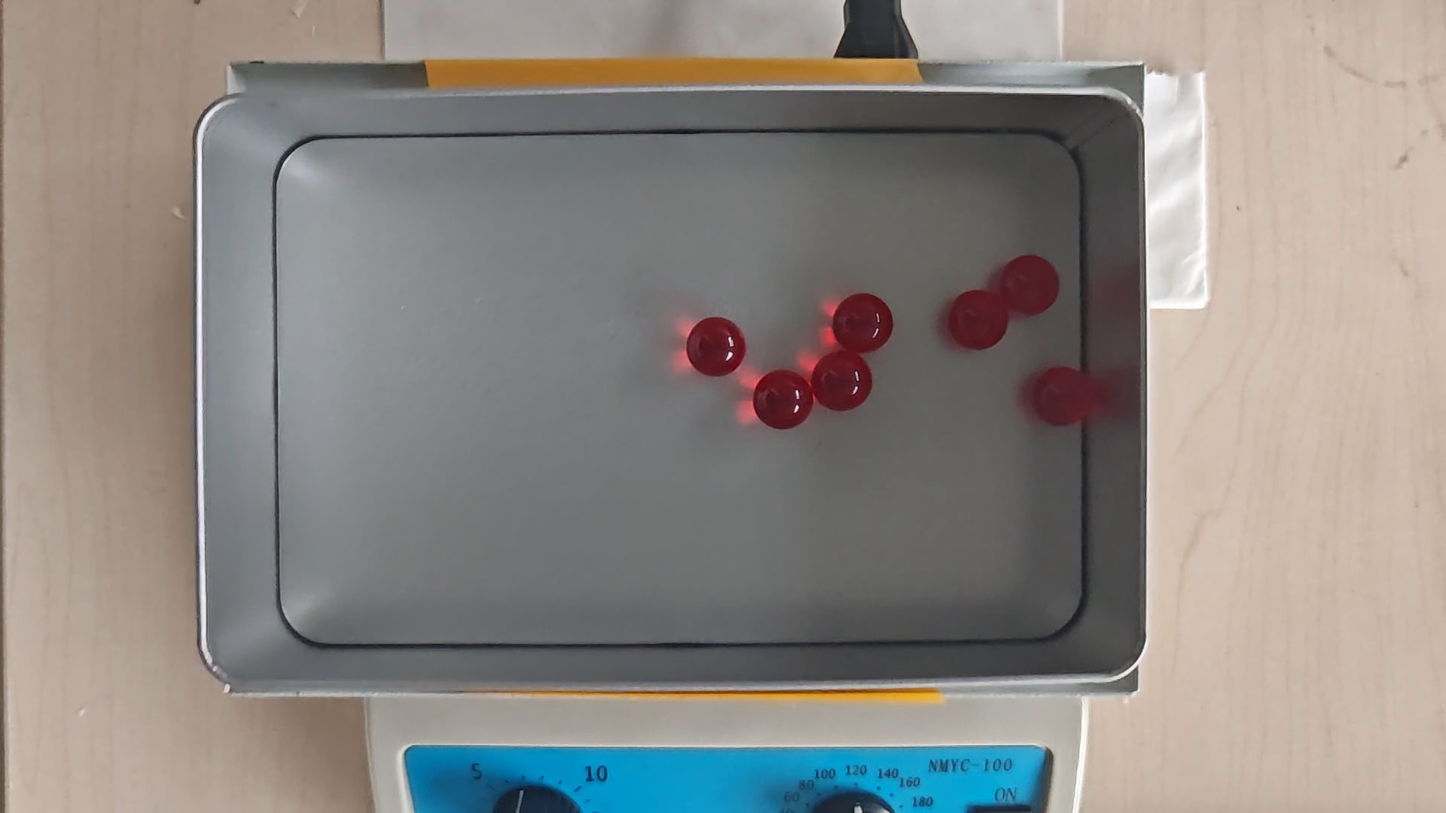ball: (752, 369, 813, 431), (1033, 365, 1093, 425), (814, 351, 873, 412), (1002, 255, 1060, 317), (949, 289, 1008, 349), (688, 318, 743, 375), (836, 293, 891, 349)
container: (270, 126, 1085, 650)
